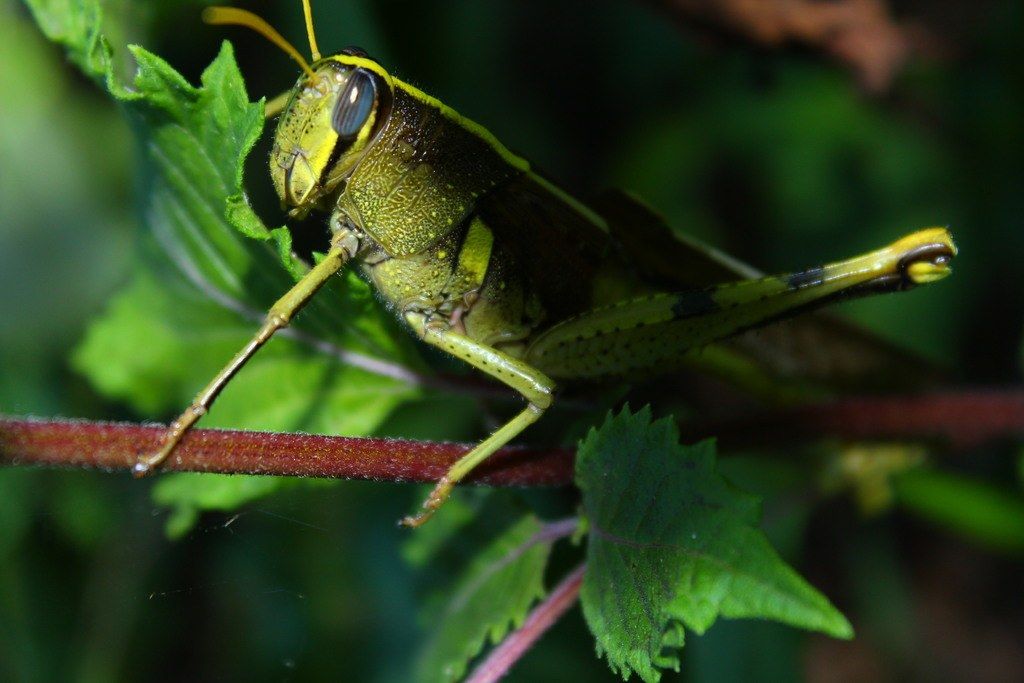insect: (0, 0, 1023, 682), (122, 2, 996, 527)
